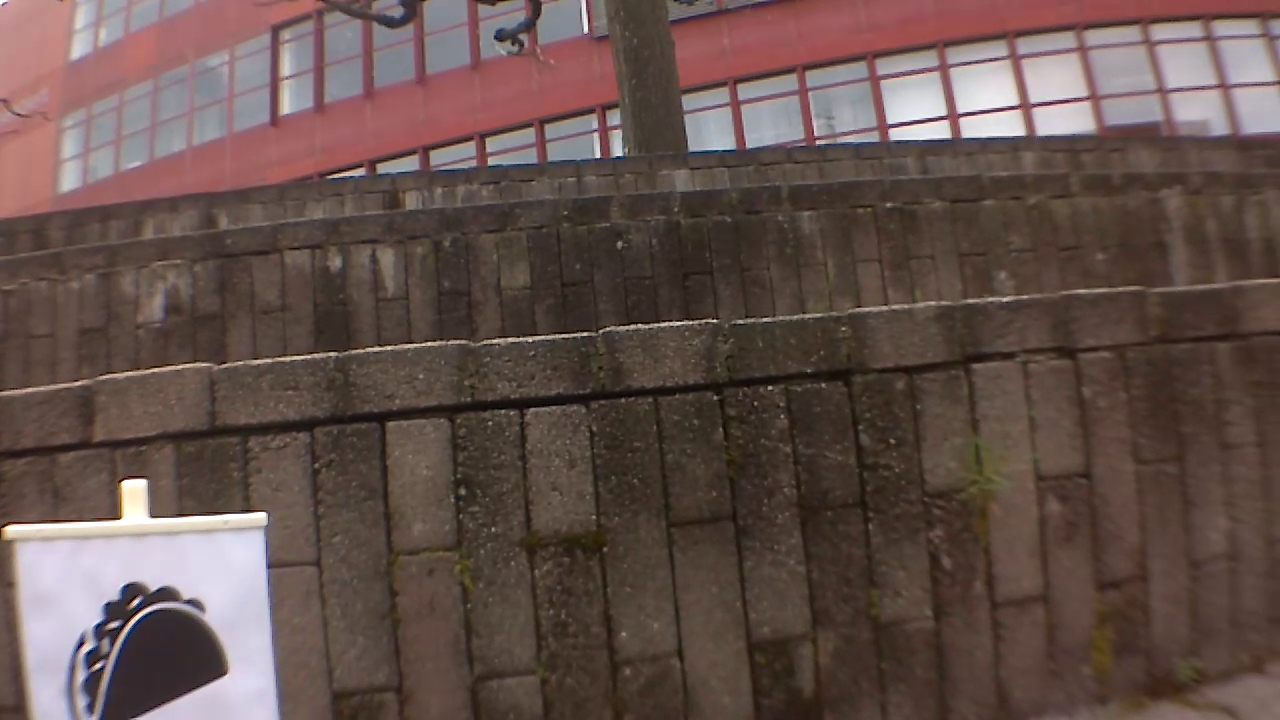taco: (58, 571, 236, 720)
